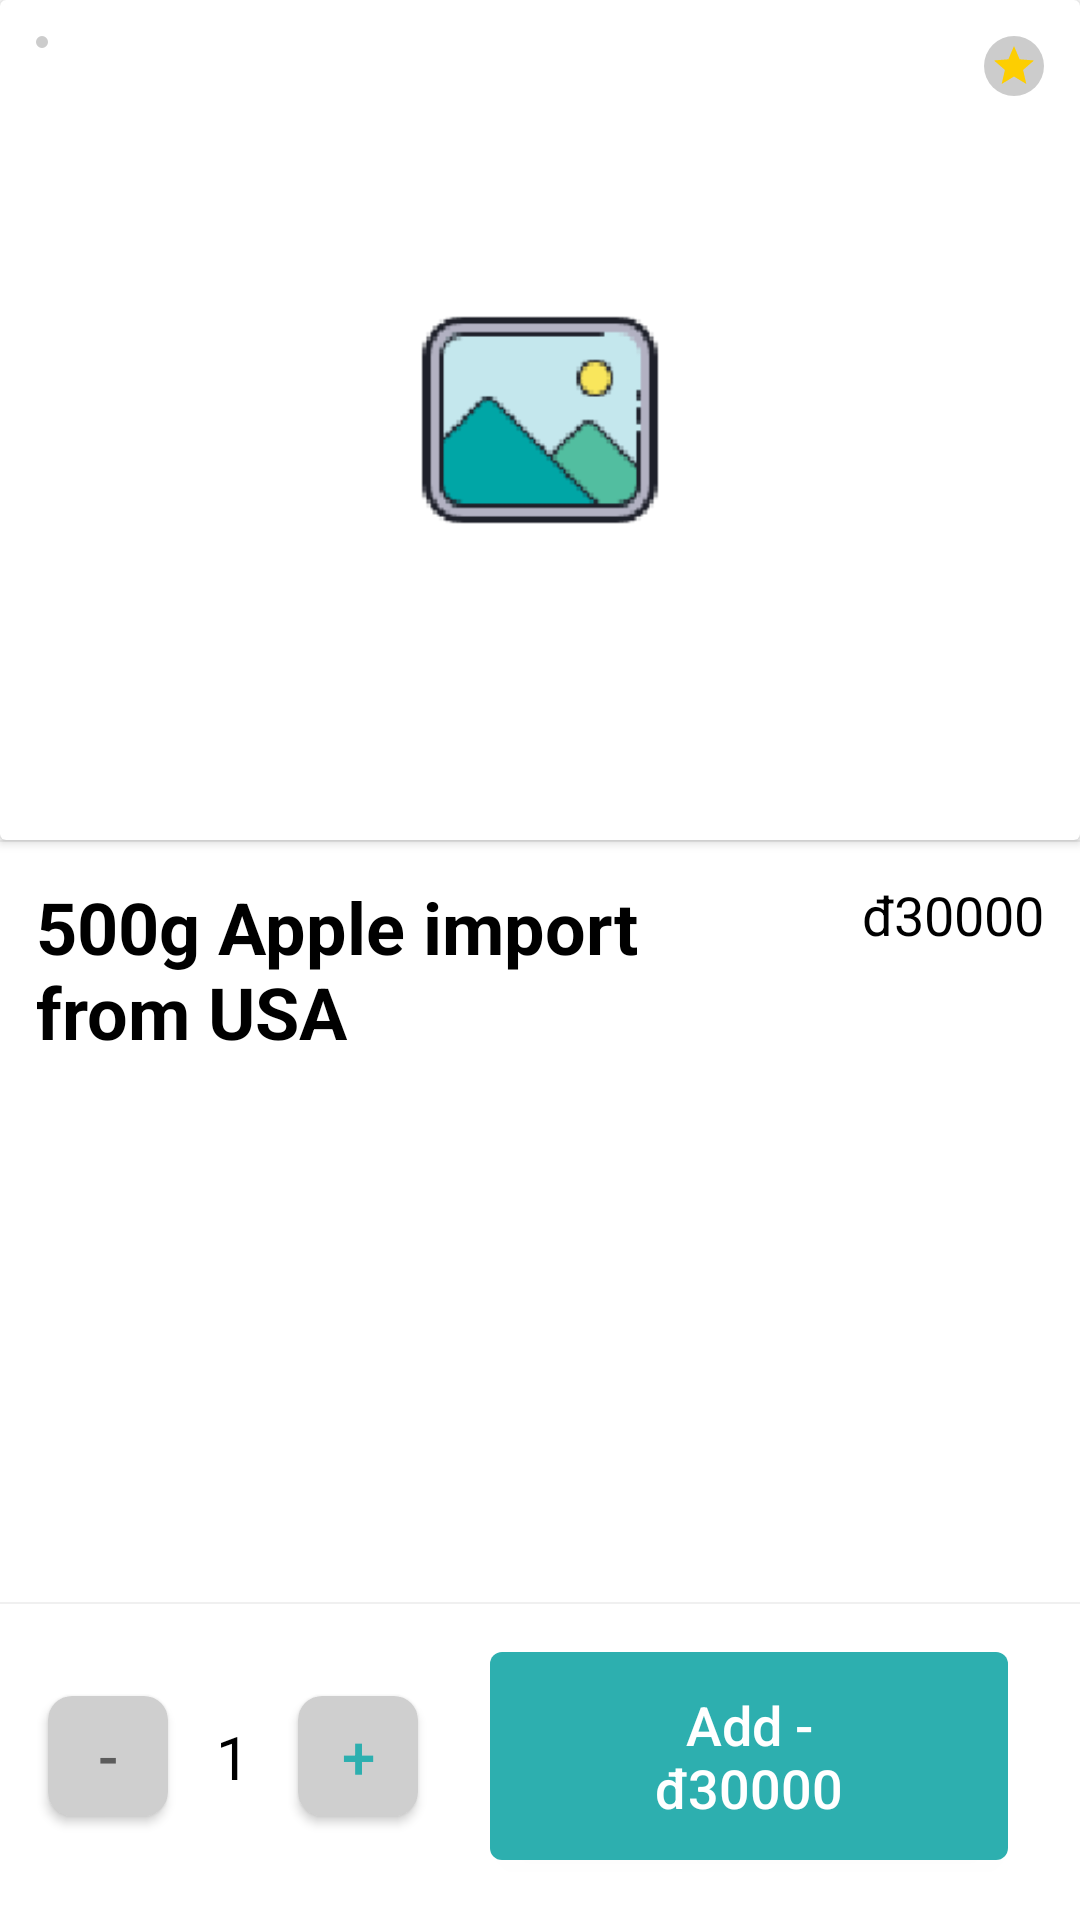

Point at icon controls on the screen. Image size 1080×1920, points as (x=x, y=y).
star: (x=1014, y=66)
